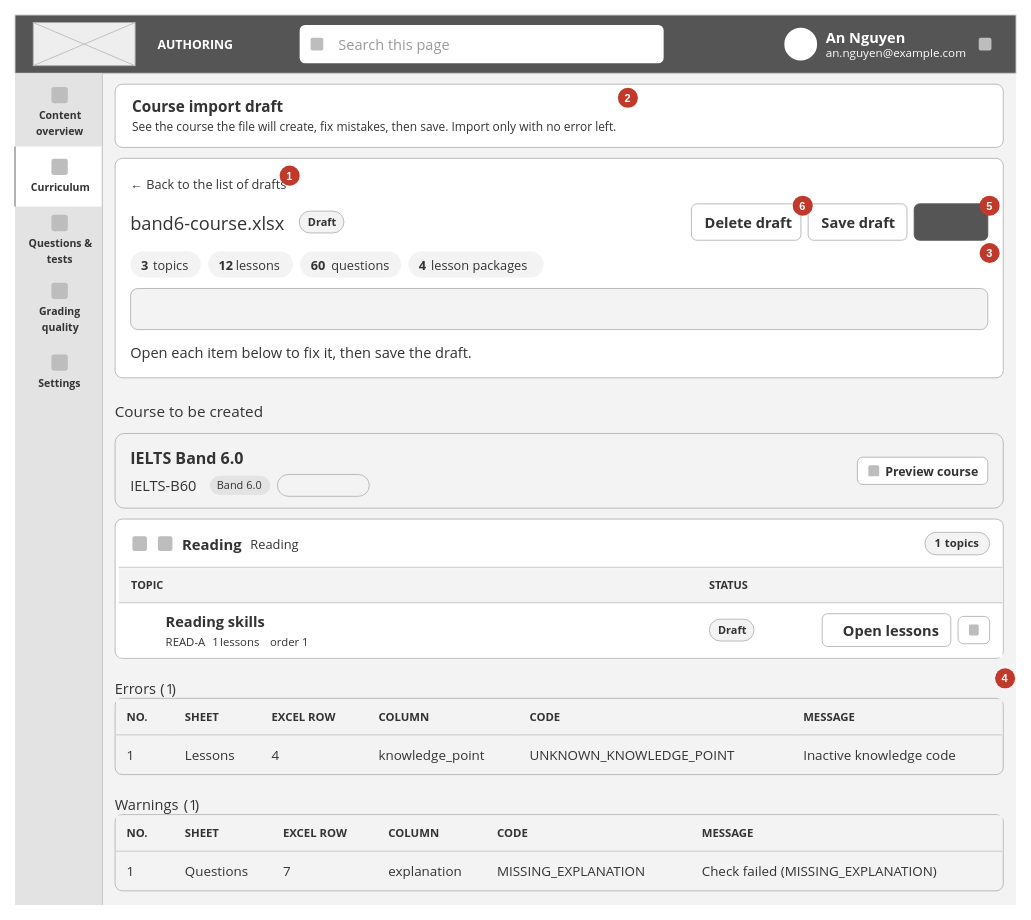
Some shapes in this 1031 by 920 pixel diagram are drawn without their labels. Here are the shapes that lost their labels. From the top down, the box of each, then its label:
(784, 27, 817, 60): AN
(913, 203, 988, 240): Import
(130, 288, 988, 330): 1 error left to fix.
(276, 474, 369, 496): Not active yet
